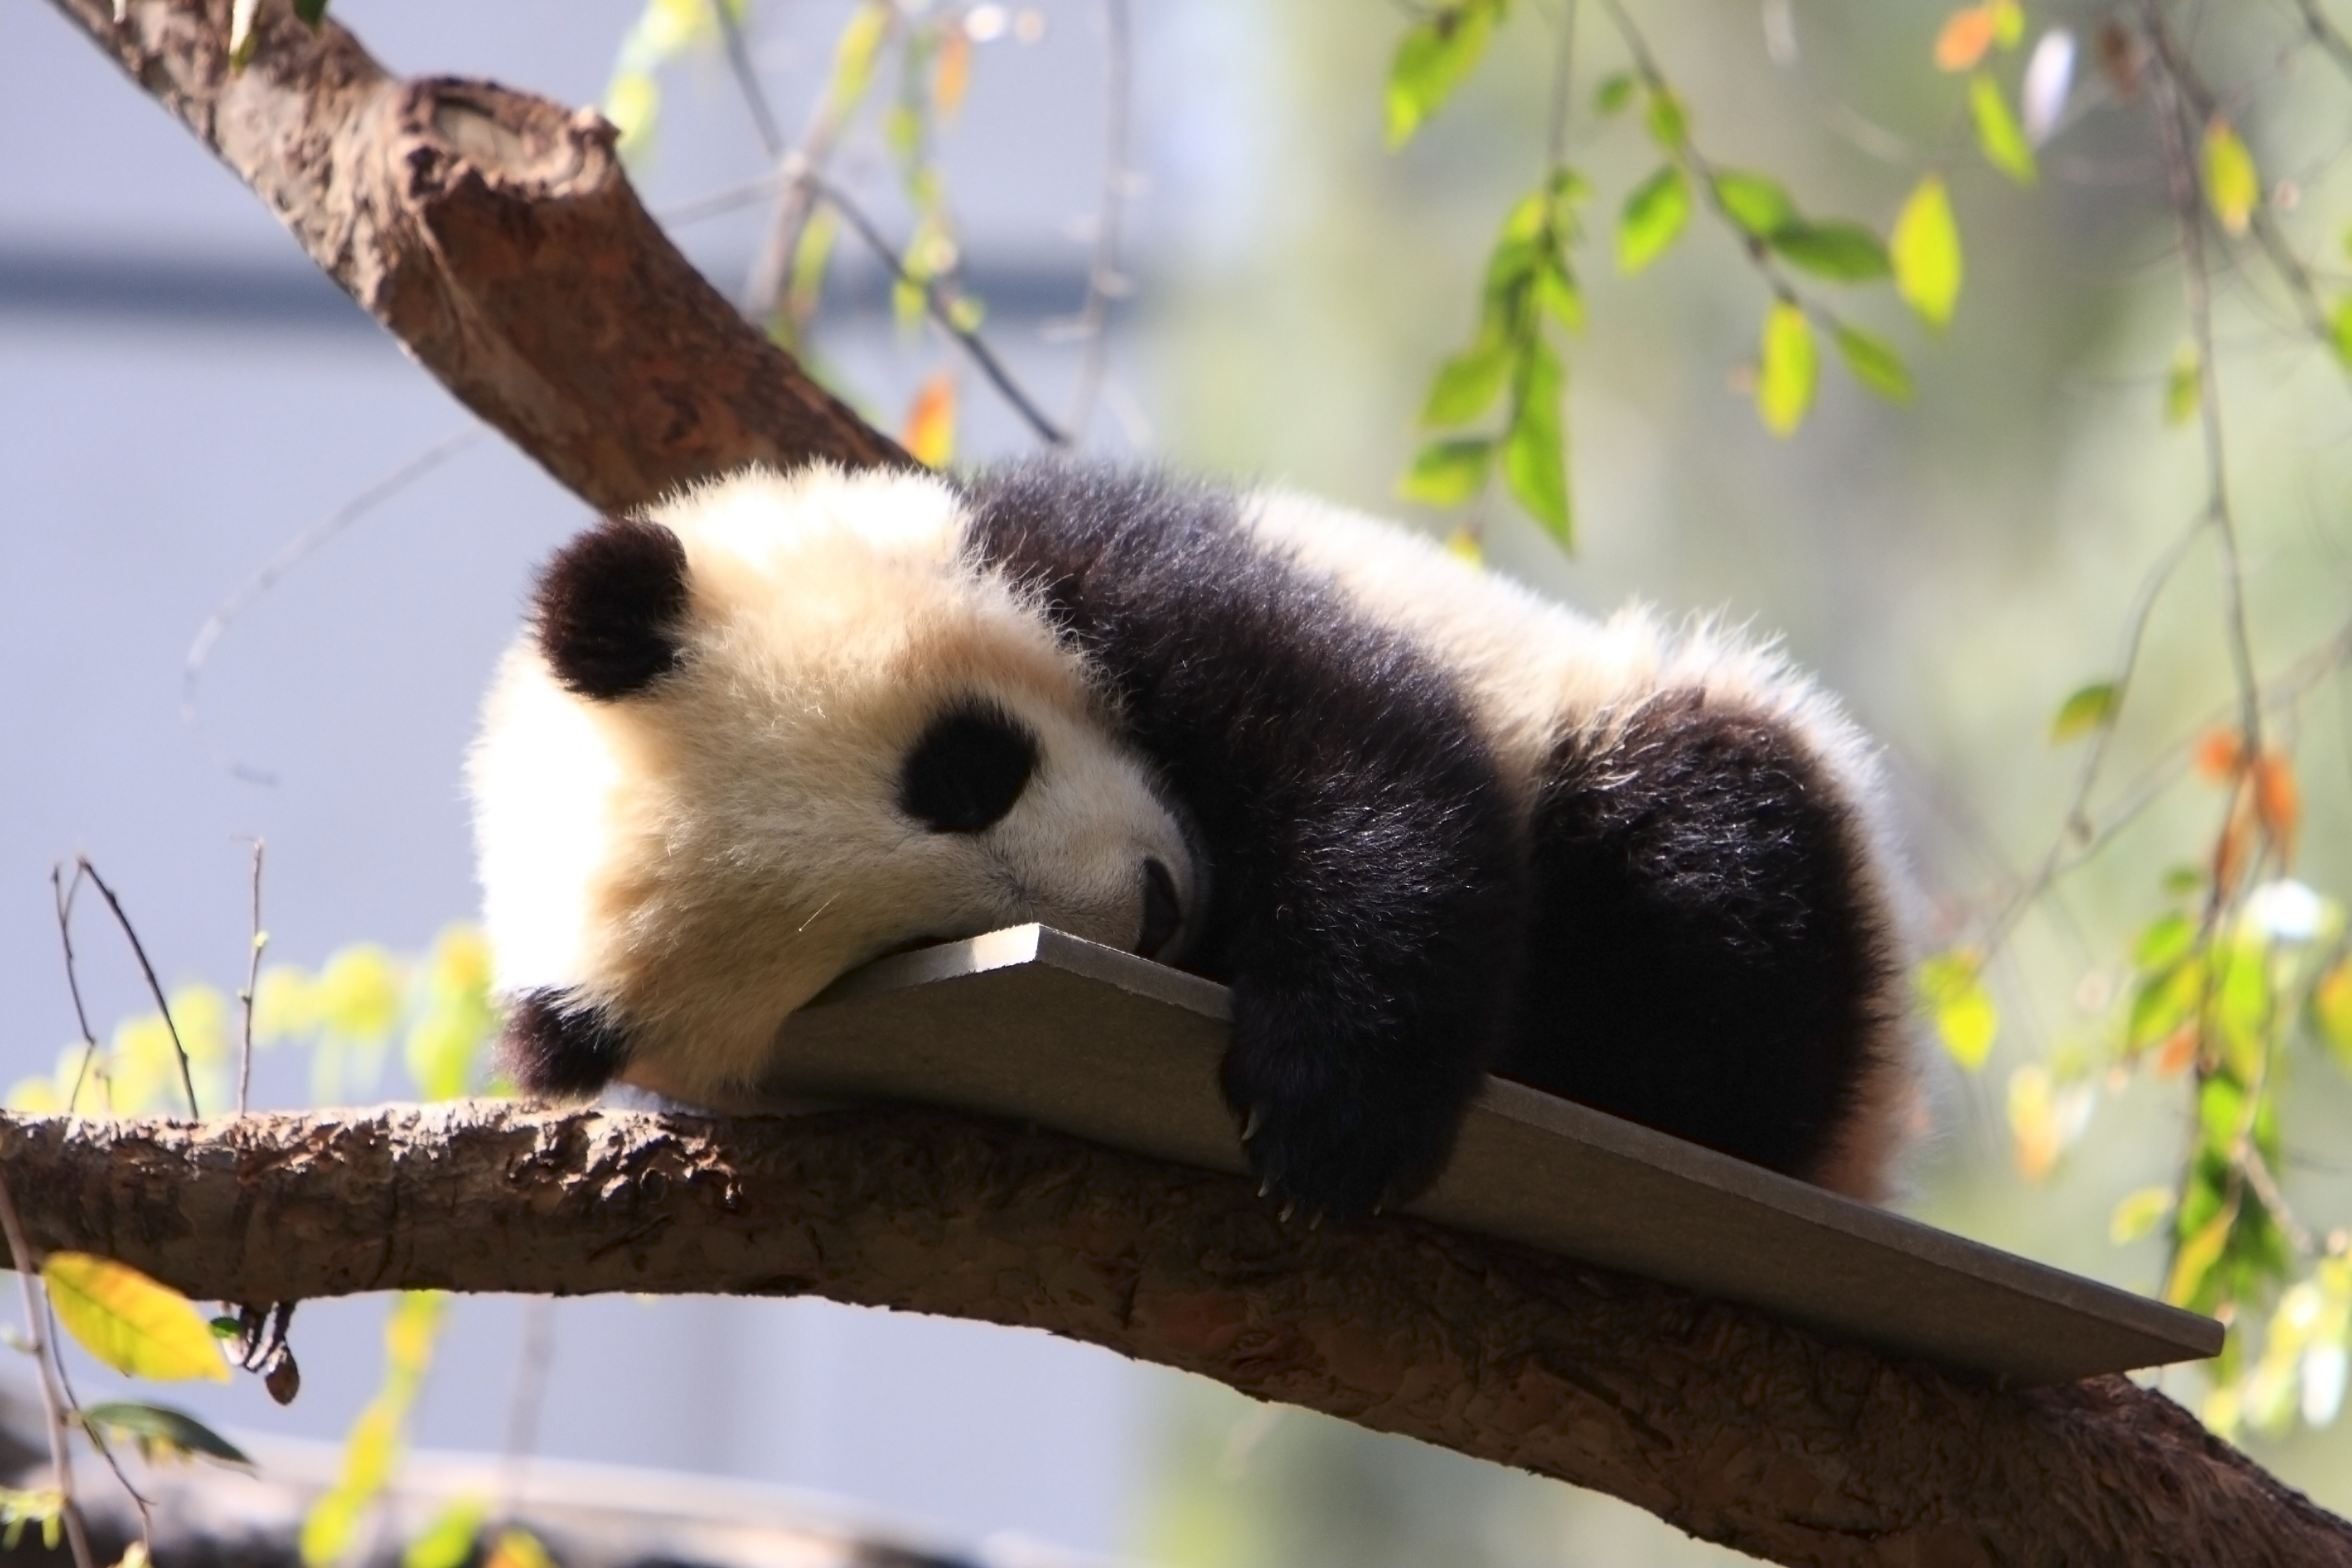panda: (395, 362, 1881, 1332)
